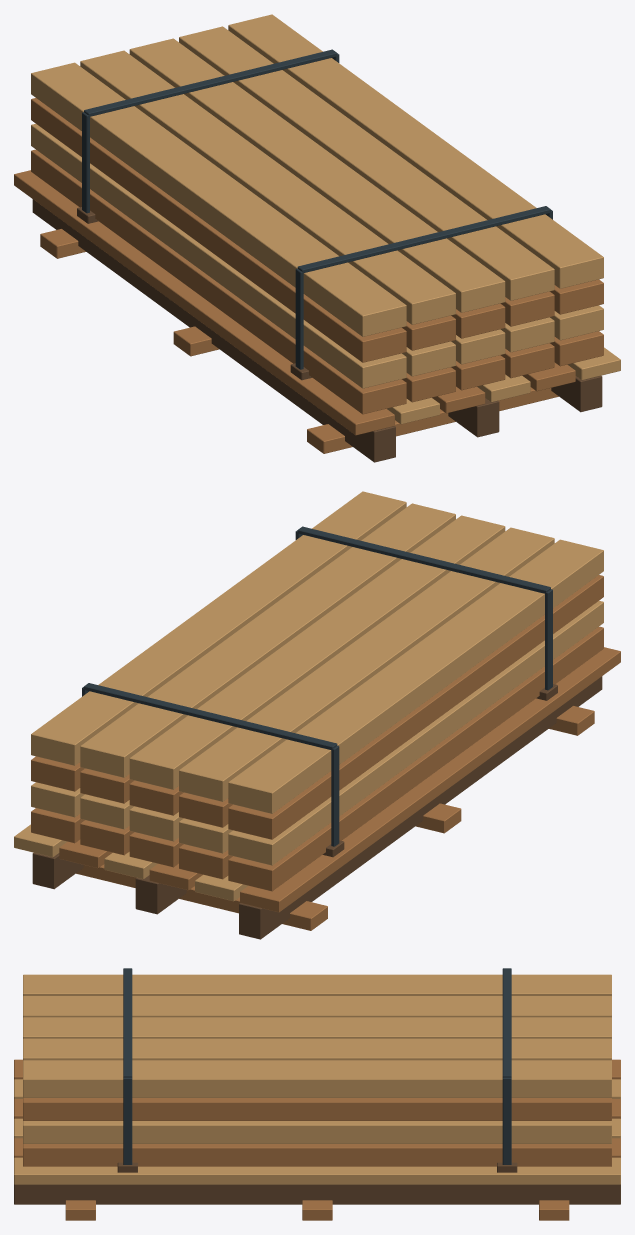
File: b14_pallet_lumber_bundle.glb
3 renders of one model, top to bottom at view 1: azimuth 30°, elevation 25°; view 2: azimuth 150°, elevation 25°; view 3: azimuth 270°, elevation 25°, orthographic. The views are drawn at different scales.
Parts seen in each view (by area): view 1: b14_pallet_lumber_bundle; view 2: b14_pallet_lumber_bundle; view 3: b14_pallet_lumber_bundle.
Part boxes in pixels (x1,y1,x2,y2): b14_pallet_lumber_bundle: (14, 14, 620, 462); b14_pallet_lumber_bundle: (14, 491, 620, 939); b14_pallet_lumber_bundle: (14, 968, 620, 1220).
Bounding box in the file's own units: 1.1 × 0.6115 × 2.4.
